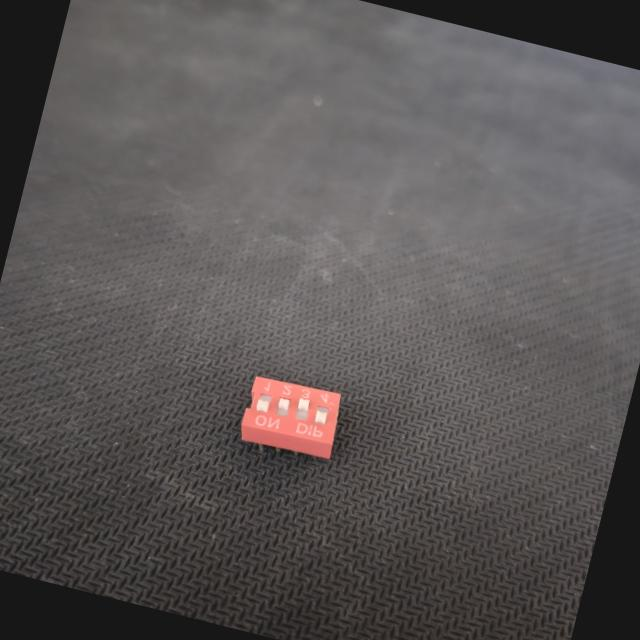switch: (220, 356, 358, 476)
